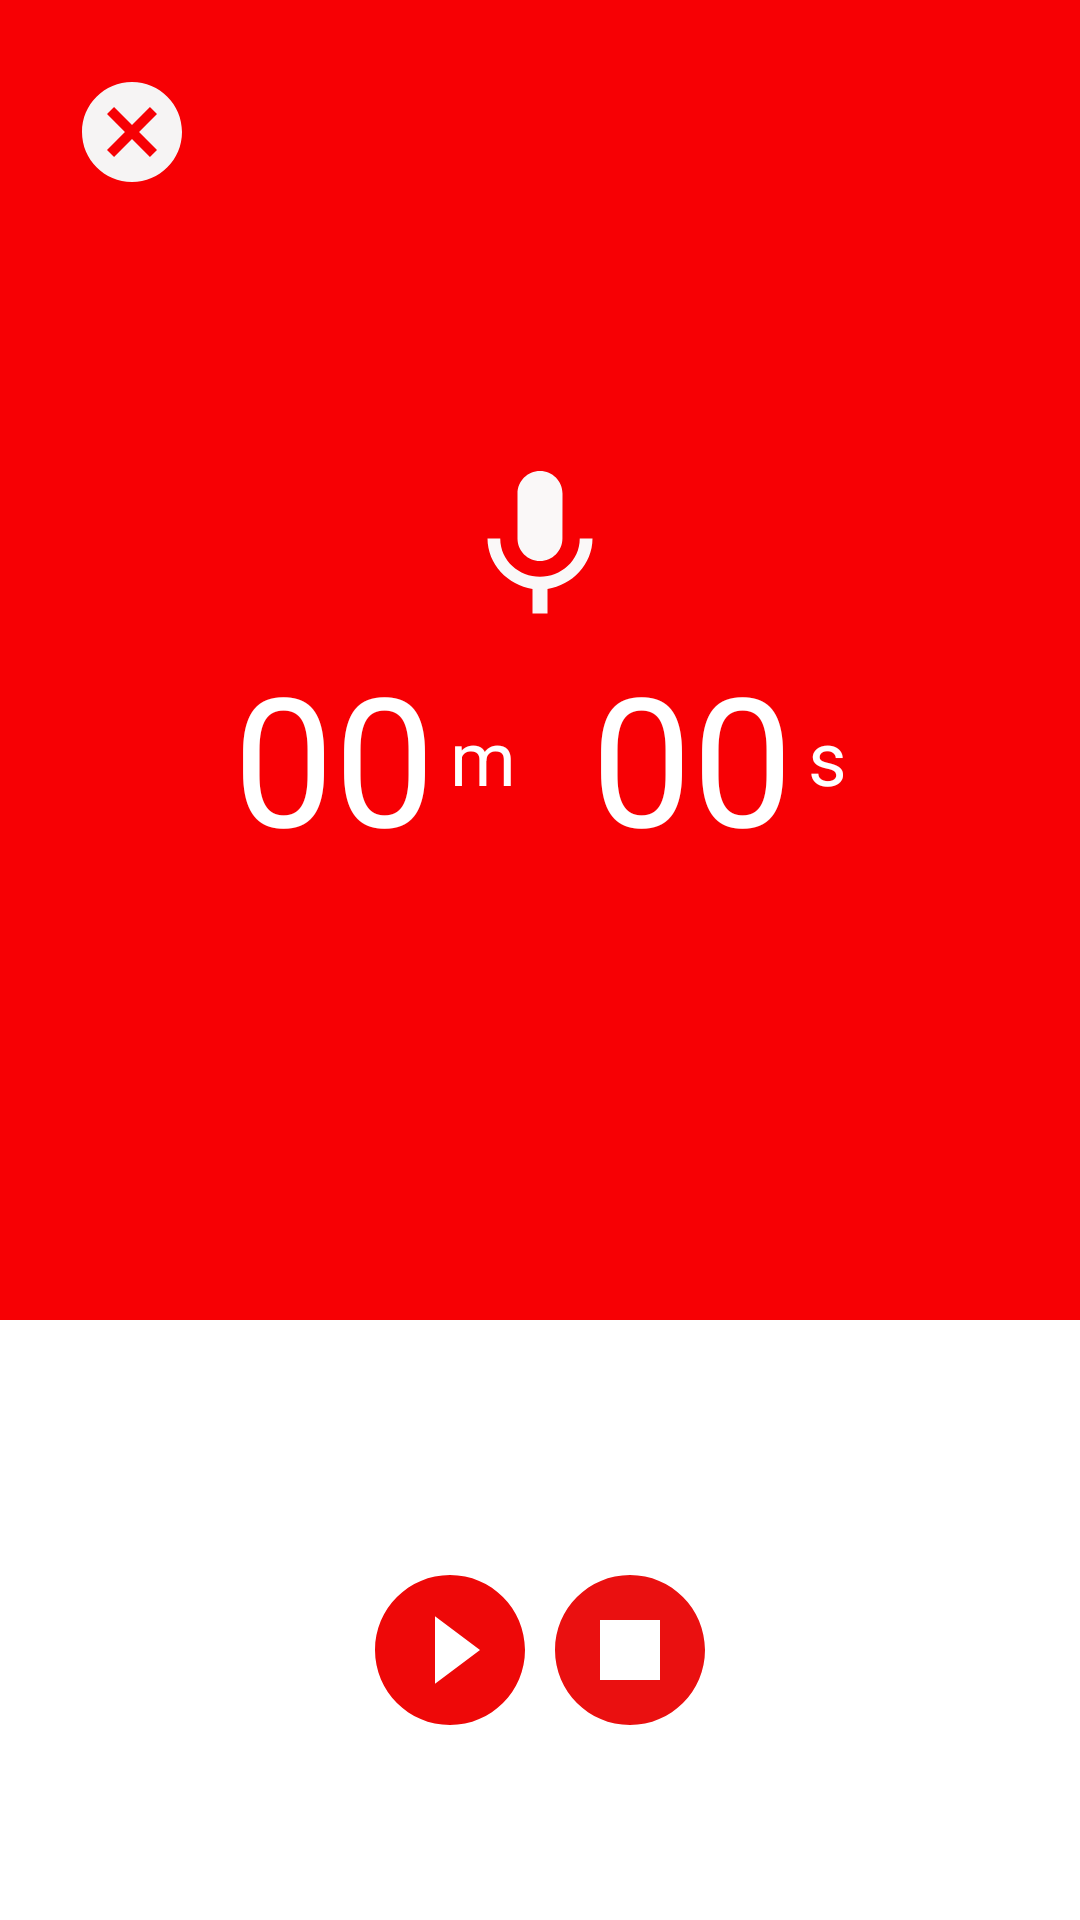

Icons on this 1080*1920 Android screen, each with its box as [x1=x1, y1=y1, x2=x2, y2=y2]:
cancel: [x1=82, y1=82, x2=182, y2=182]
microphone: [x1=487, y1=471, x2=593, y2=614]
stop: [x1=555, y1=1575, x2=705, y2=1725]
